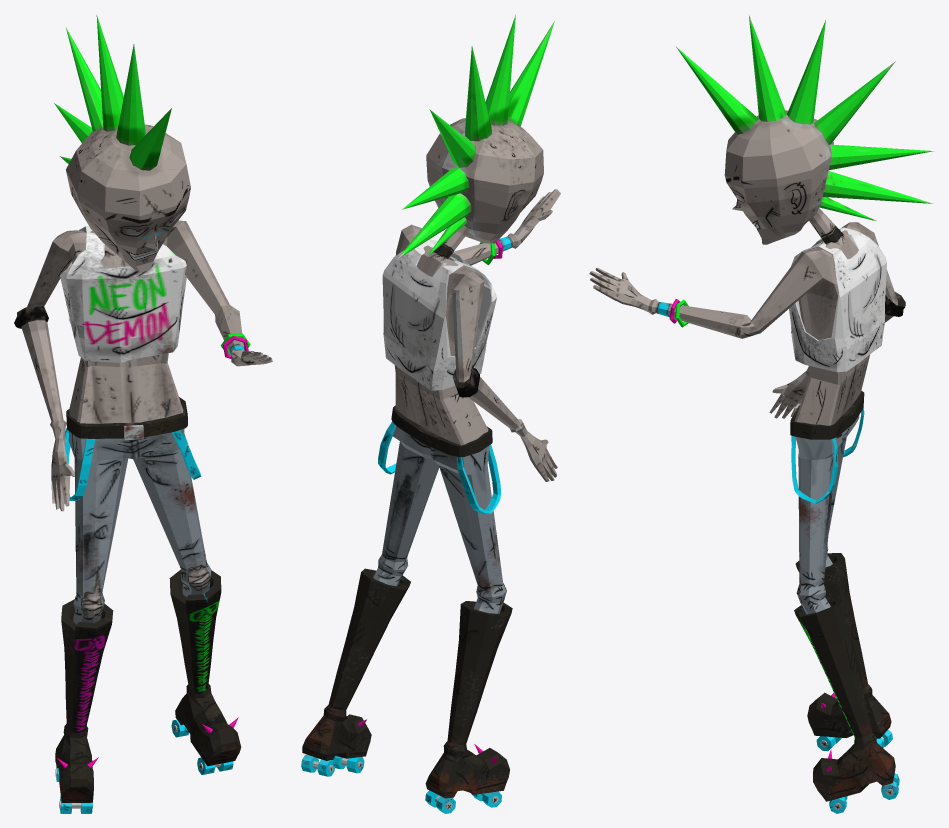
The model's file is punkAnimation_000024.obj.
3 renders of one model, left to right at view 1: azimuth 30°, elevation 25°; view 2: azimuth 150°, elevation 25°; view 3: azimuth 270°, elevation 25°, orthographic. The views are drawn at different scales.
Visible parts, largest first — view 1: Cube.004_Cube.003; view 2: Cube.004_Cube.003; view 3: Cube.004_Cube.003.
Part boxes in pixels (box(x1,y1,x2,y2)): Cube.004_Cube.003: box(14, 15, 272, 813); Cube.004_Cube.003: box(301, 14, 560, 813); Cube.004_Cube.003: box(589, 14, 933, 813).
Size of the model in its own units: 2.04 by 7.48 by 3.17.
